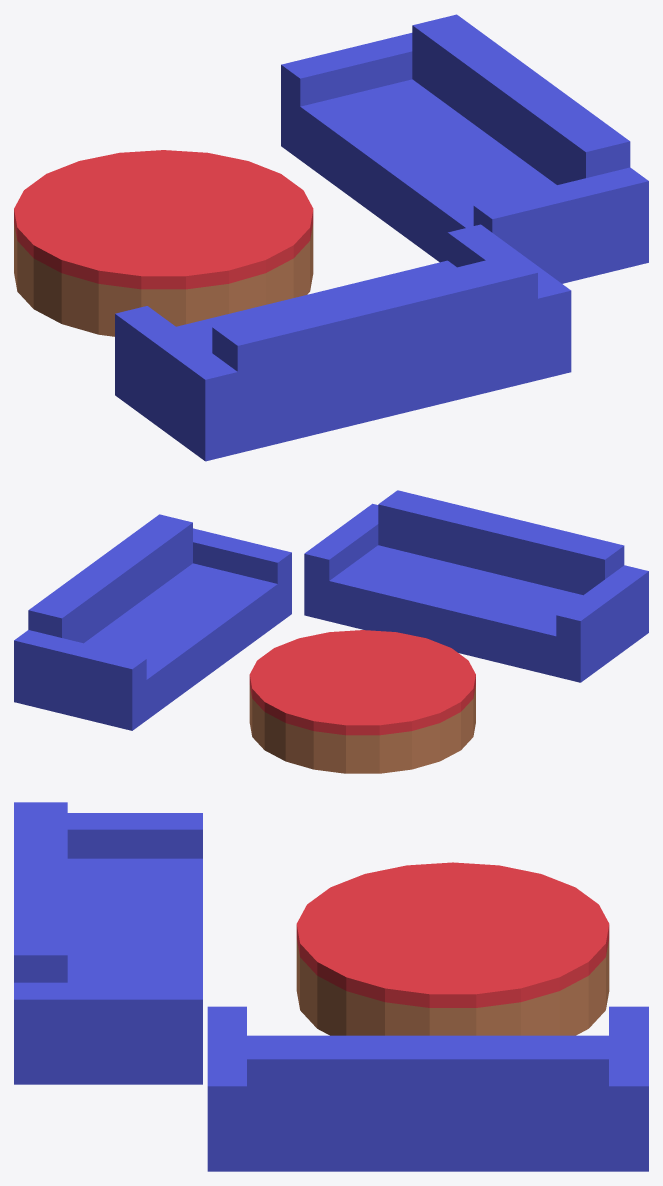
Rendered from Sofa.fbx.
3 renders of one model, top to bottom at view 1: azimuth 30°, elevation 25°; view 2: azimuth 150°, elevation 25°; view 3: azimuth 270°, elevation 25°, orthographic. The views are drawn at different scales.
Visible parts, largest first — view 1: arm chair.003, arm chair.002, Cylinder.003; view 2: arm chair.002, arm chair.003, Cylinder.003; view 3: arm chair.003, arm chair.002, Cylinder.003.
Boxes of the visible parts, x1,y1,x2,y2 form: arm chair.003: [281, 14, 648, 283]; arm chair.002: [115, 224, 571, 461]; Cylinder.003: [14, 150, 313, 336]; arm chair.002: [304, 490, 648, 682]; arm chair.003: [14, 514, 291, 730]; Cylinder.003: [249, 630, 475, 773]; arm chair.003: [207, 1006, 648, 1171]; arm chair.002: [14, 802, 202, 1084]; Cylinder.003: [296, 862, 609, 1035].
Size of the model in its own units: 279 by 58.99 by 274.
